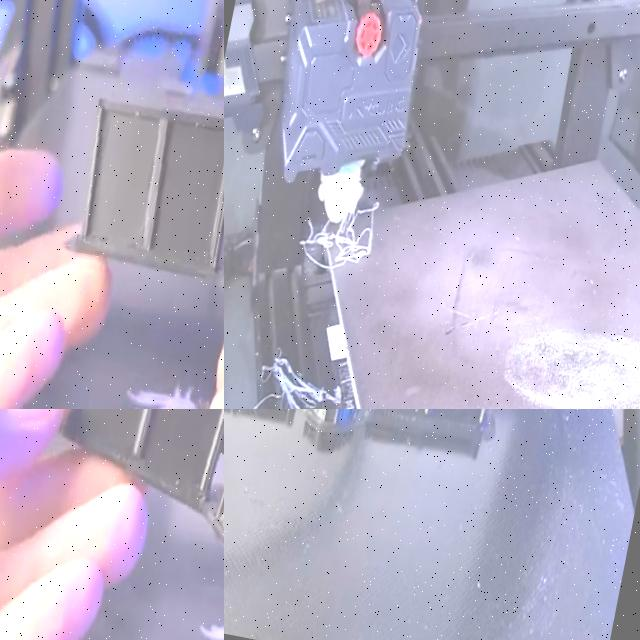spaghetti: (288, 194, 399, 302), (224, 337, 356, 409)
